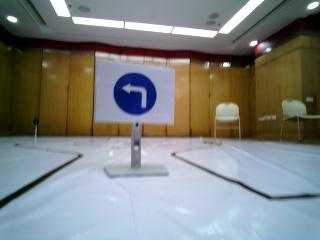left: (97, 59, 170, 126)
